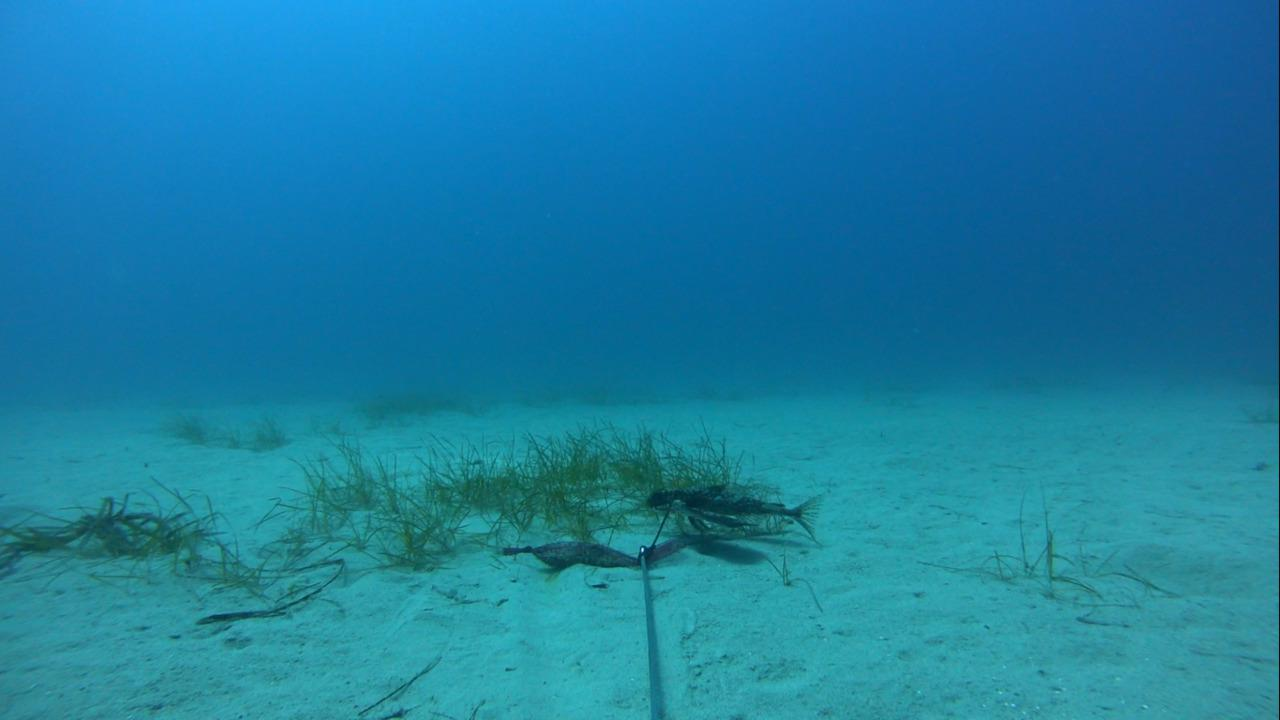dactylopterus: (643, 472, 828, 539)
